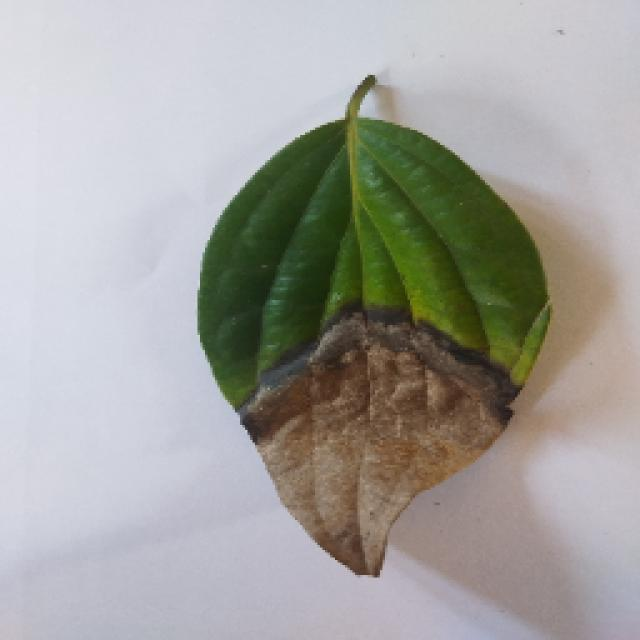footrot: (155, 70, 587, 595)
